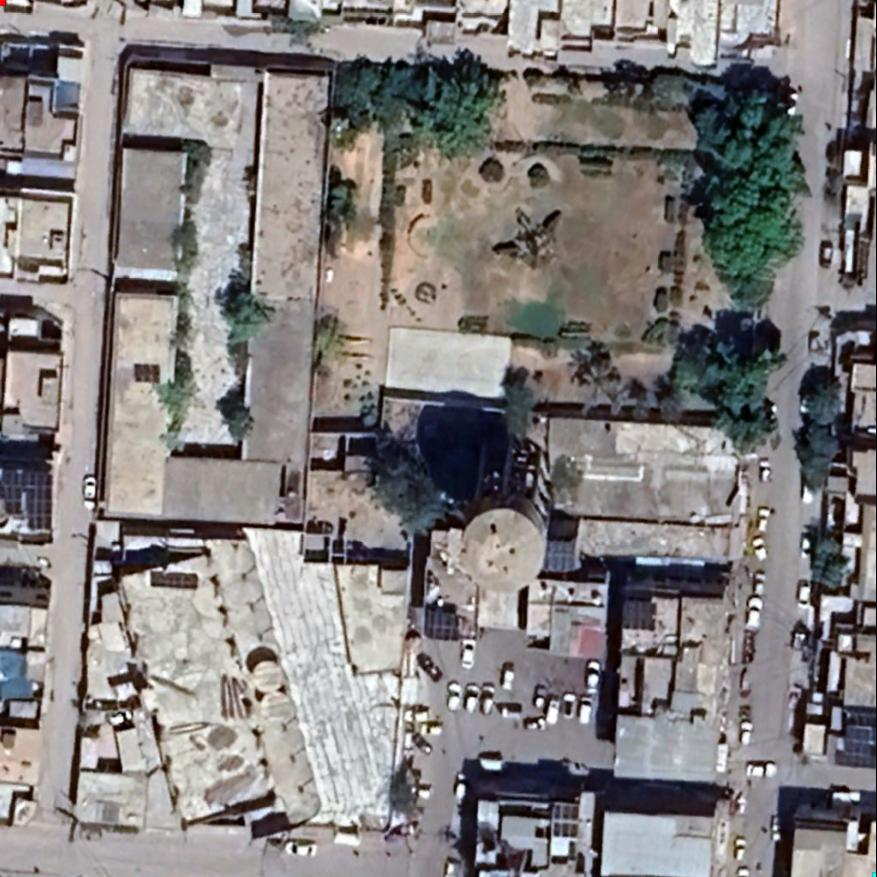Solarpanel: (0, 459, 58, 535), (830, 708, 876, 775), (421, 602, 464, 647), (145, 567, 204, 595), (540, 537, 580, 575), (548, 800, 585, 840), (130, 362, 165, 387)
